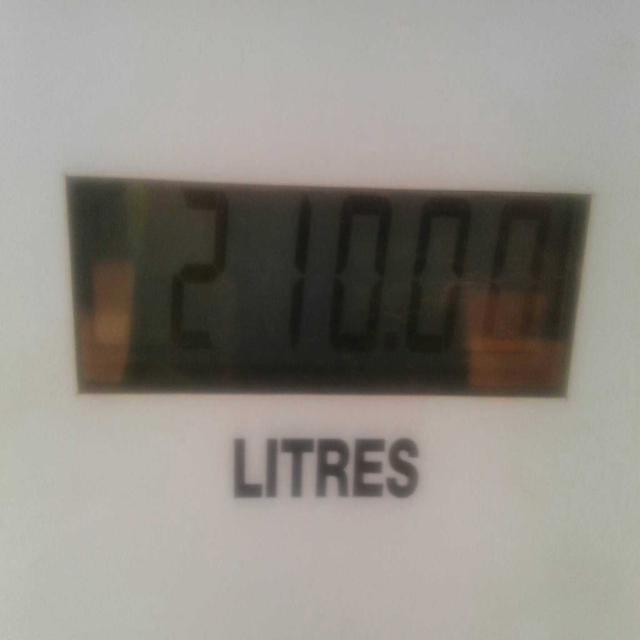.: (380, 311, 405, 375)
0: (405, 184, 473, 379), (323, 184, 396, 364), (481, 193, 551, 373)
2: (162, 183, 252, 367), (273, 179, 323, 359)
